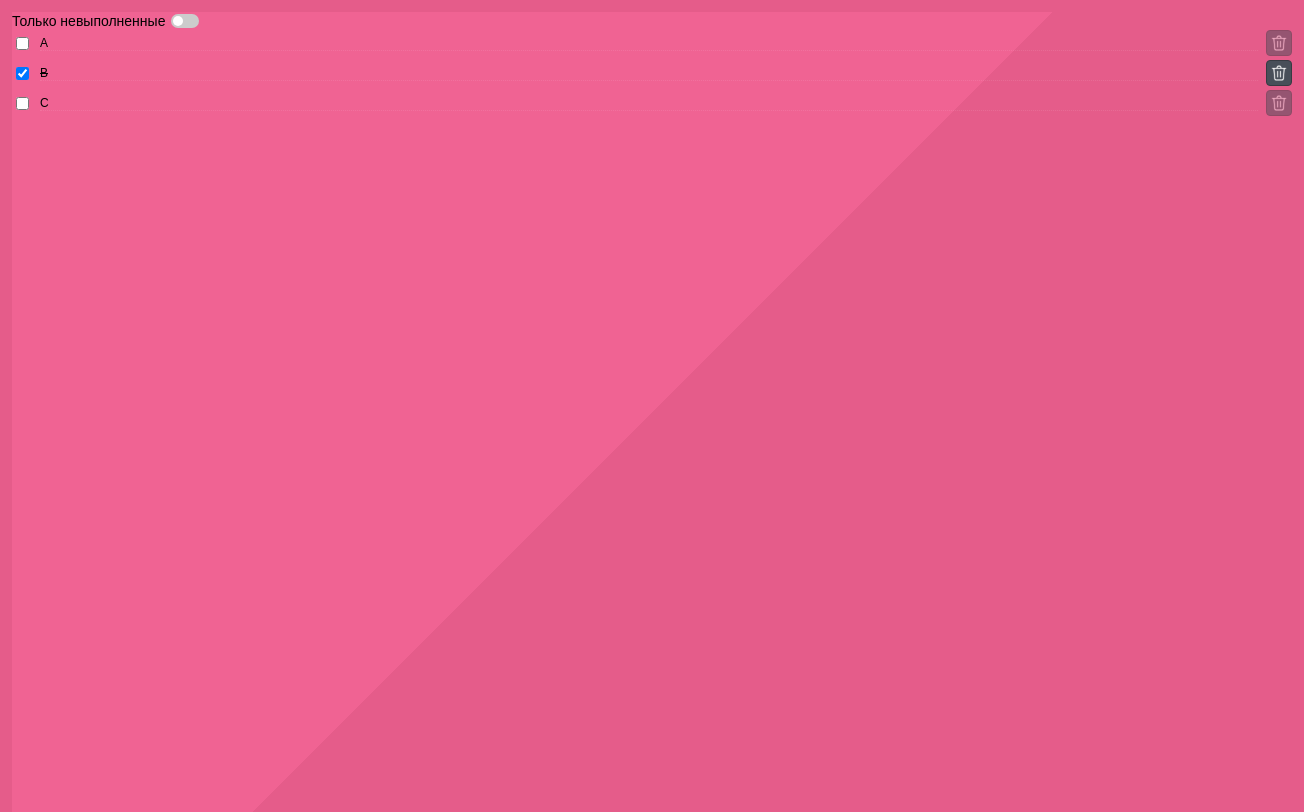
it: Список задач — фильтрация › с включенным фильтром
Click the checkbox labelled "Только невыполненные" at (106, 21), box [12,13,199,29]
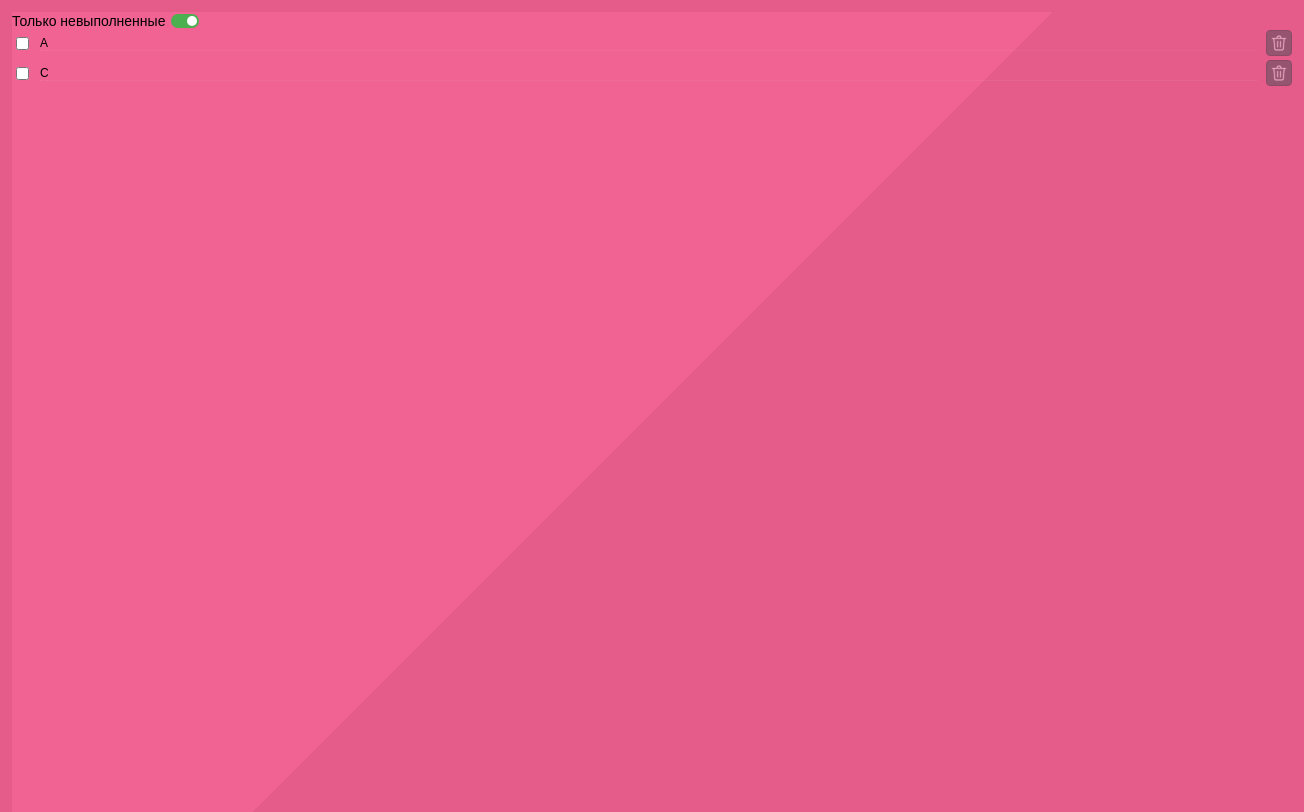
Expected: the text "A" is shown, [40,36,1258,50]
Now the number of list items is 2, box [12,30,1292,56]; [12,60,1292,86]
Now the text "B" is gone
